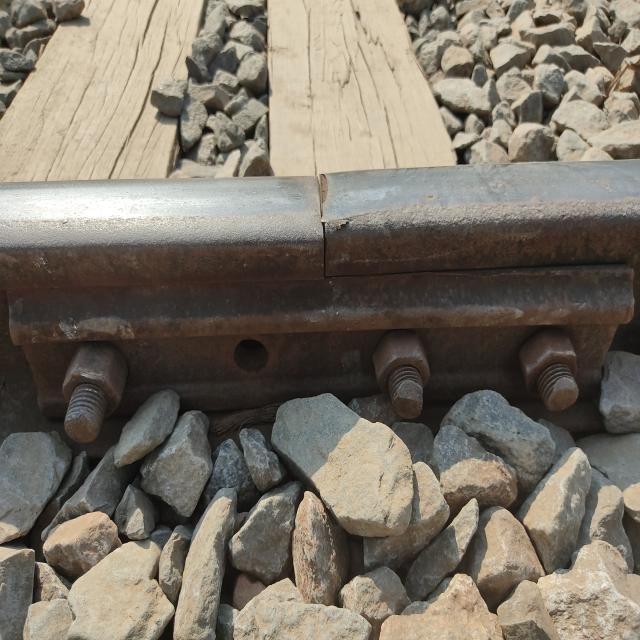Faults: (224, 337, 280, 382)
